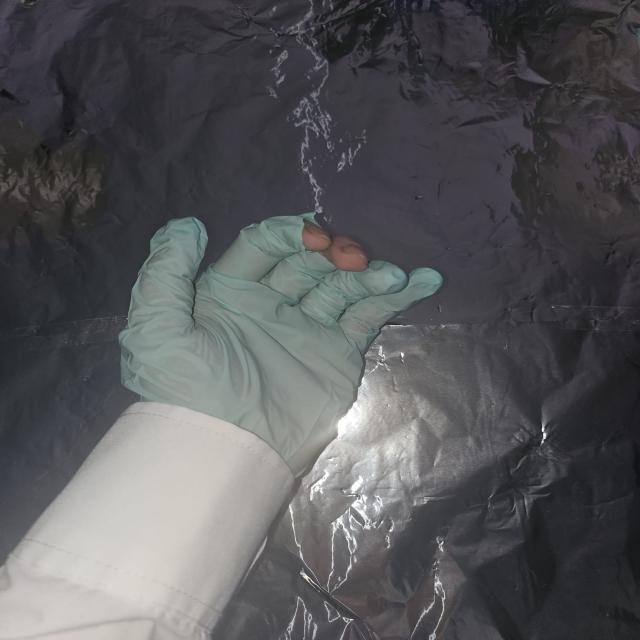gloves_damaged: (117, 208, 446, 478)
